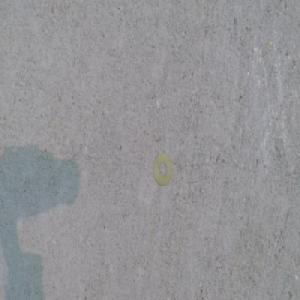Washer: (152, 154, 173, 188)
